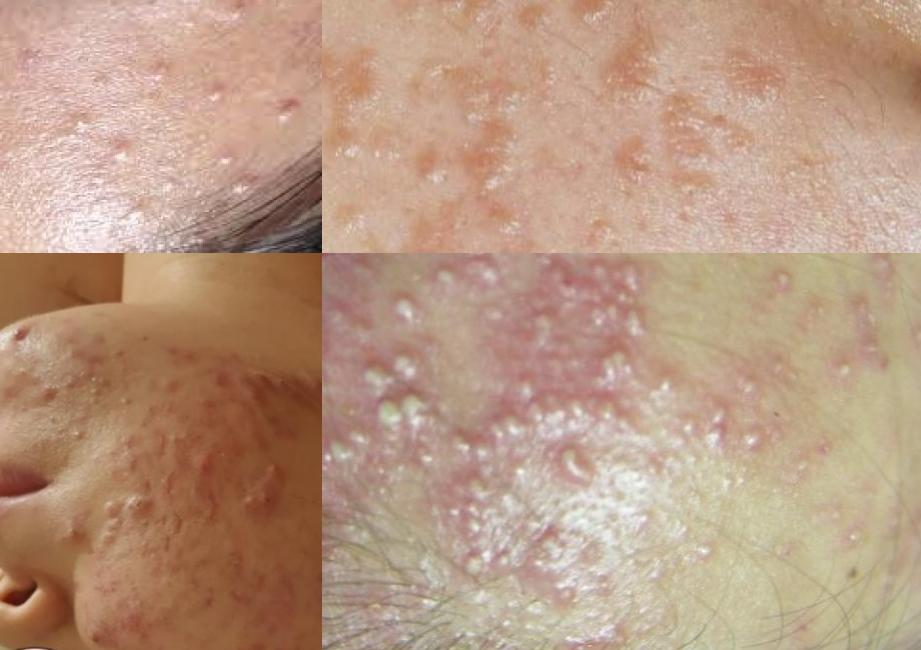flat_wart: (465, 70, 530, 250), (323, 30, 397, 175), (592, 3, 677, 129), (714, 33, 795, 120), (664, 88, 712, 186), (608, 129, 665, 207), (413, 1, 519, 38), (392, 142, 449, 207), (384, 211, 455, 254), (515, 1, 556, 53), (584, 214, 631, 254), (581, 1, 613, 22)
papular: (195, 437, 239, 486), (108, 434, 146, 479), (126, 485, 160, 523), (44, 513, 80, 547), (186, 498, 222, 525), (5, 318, 32, 349), (163, 344, 201, 360), (161, 469, 182, 496), (213, 373, 231, 393)
purulent: (543, 254, 646, 384), (508, 521, 634, 614), (438, 473, 521, 575), (347, 345, 444, 430), (656, 395, 773, 451), (427, 254, 517, 300), (453, 415, 530, 466), (323, 432, 381, 494), (544, 394, 624, 433), (536, 437, 600, 476), (374, 288, 424, 330)
sebo-crystan-conglo: (244, 457, 284, 517), (235, 370, 293, 405), (97, 520, 128, 555), (97, 491, 123, 524)
whitehead: (823, 302, 912, 389), (832, 254, 912, 283), (93, 141, 151, 169), (269, 94, 308, 128), (206, 143, 248, 174), (111, 584, 147, 616), (219, 3, 256, 34), (220, 172, 262, 199), (145, 59, 181, 90), (62, 110, 101, 138), (198, 83, 237, 109), (164, 428, 196, 452), (113, 389, 135, 419), (83, 385, 106, 413), (67, 416, 84, 442), (8, 364, 35, 379), (86, 370, 107, 387), (147, 546, 160, 566)
